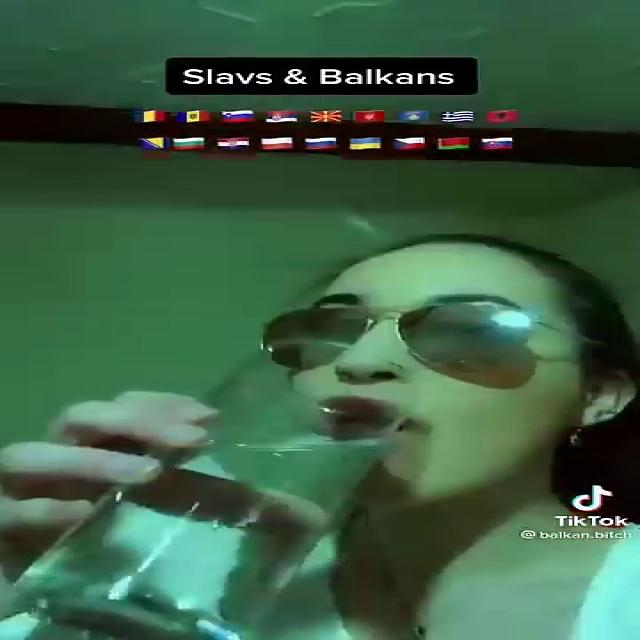Cup: (3, 352, 422, 639)
Hand: (0, 378, 326, 615)
Mouth: (287, 394, 446, 444)
